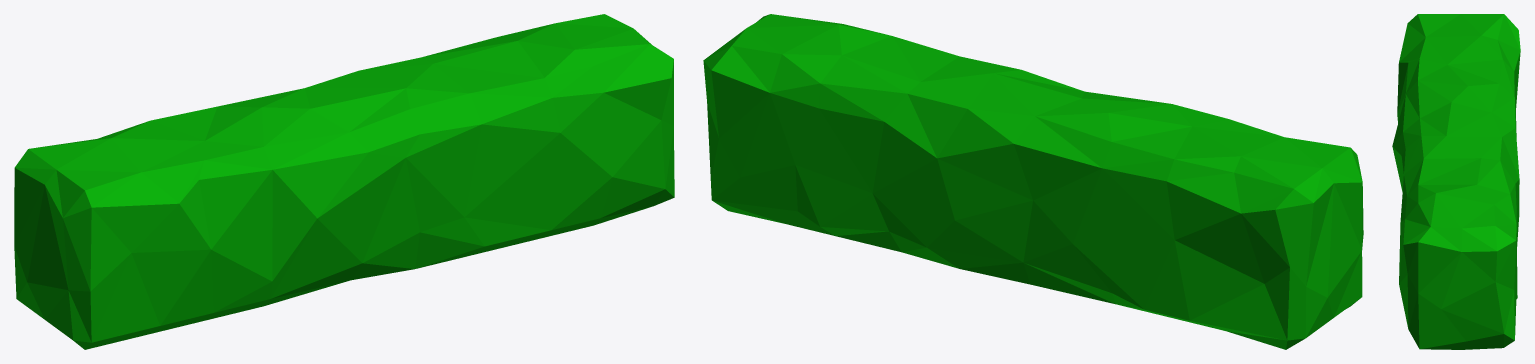
File: Hedge_Straight.fbx
3 renders of one model, left to right at view 1: azimuth 30°, elevation 25°; view 2: azimuth 150°, elevation 25°; view 3: azimuth 270°, elevation 25°, orthographic. The views are drawn at different scales.
Visible parts, largest first — view 1: Hedge; view 2: Hedge; view 3: Hedge.
Part boxes in pixels (box(x1,y1,x2,y2)): Hedge: box(14, 14, 674, 349); Hedge: box(703, 14, 1363, 349); Hedge: box(1392, 14, 1520, 349).
Size of the model in its own units: 637 by 170 by 151.
